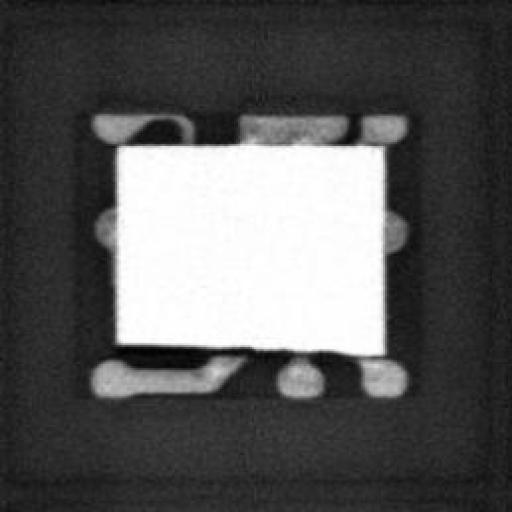DIE_BROKEN: (109, 338, 349, 358)
